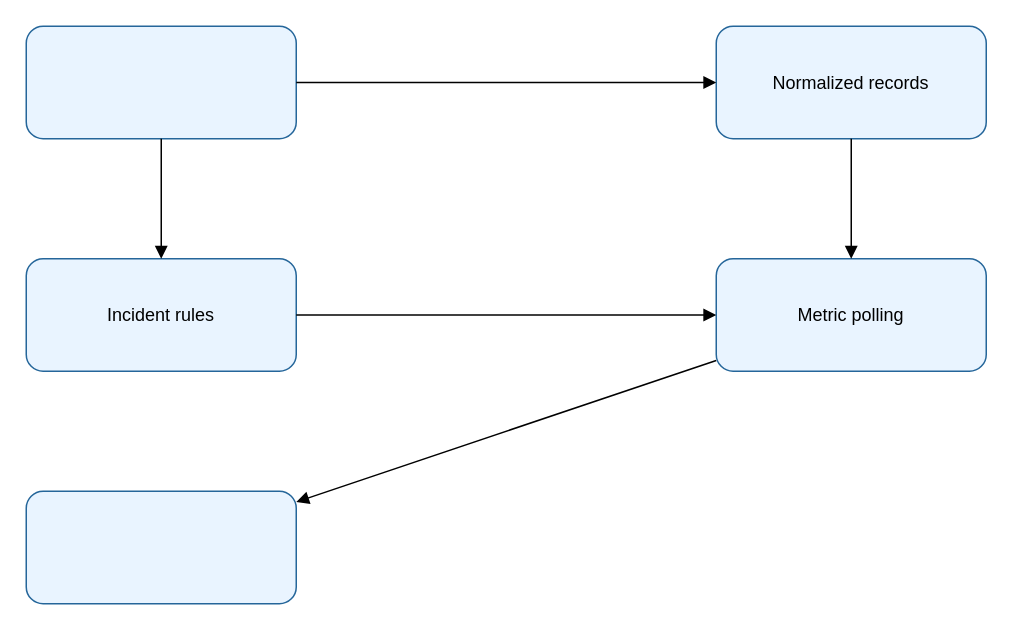
Some shapes in this 1013 by 630 pixel diagram are drawn without their labels. Here are the shapes that lost their labels. From the top down, the box of each, then its label:
(25, 25, 296, 139): Syslog events
(25, 490, 296, 604): Threshold timeline
